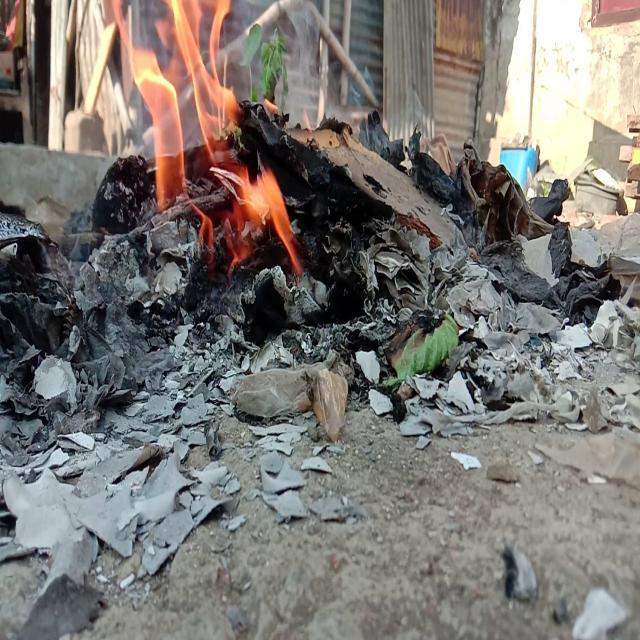Fire: (122, 0, 318, 288)
